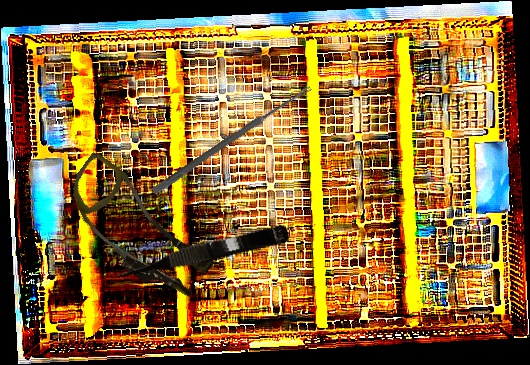Cannula: (48, 150, 227, 309)
Micro Scissor: (103, 219, 292, 288)
Surgical Spoon: (151, 83, 313, 196)
